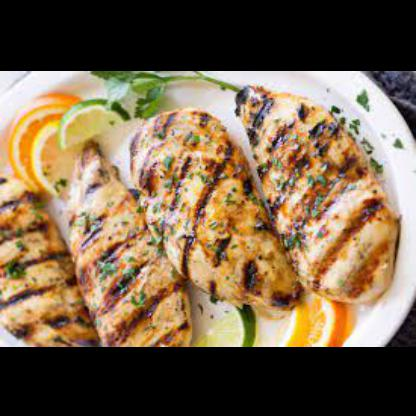grilled chicken breast: (235, 88, 397, 302), (131, 110, 300, 308), (70, 140, 192, 348), (0, 173, 98, 347)
